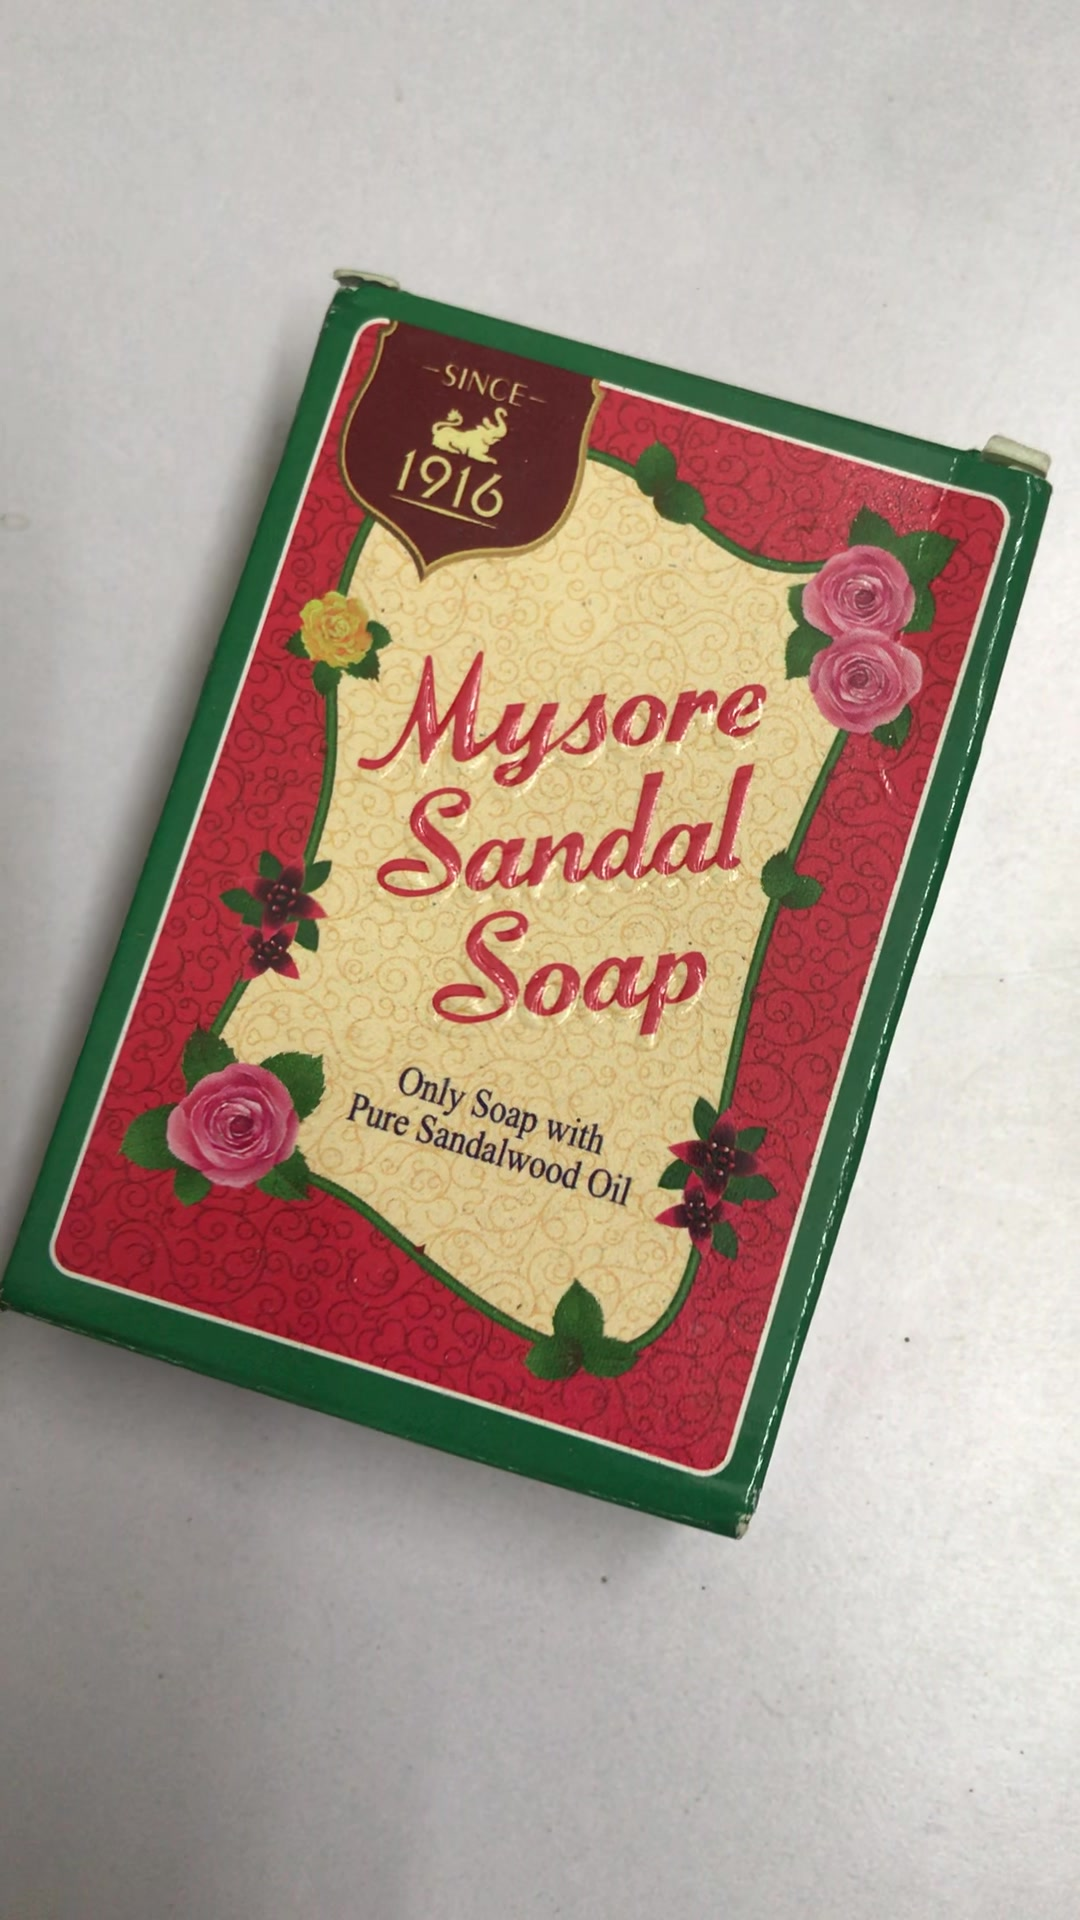mysore sandal soap: (1, 272, 1054, 1534)
